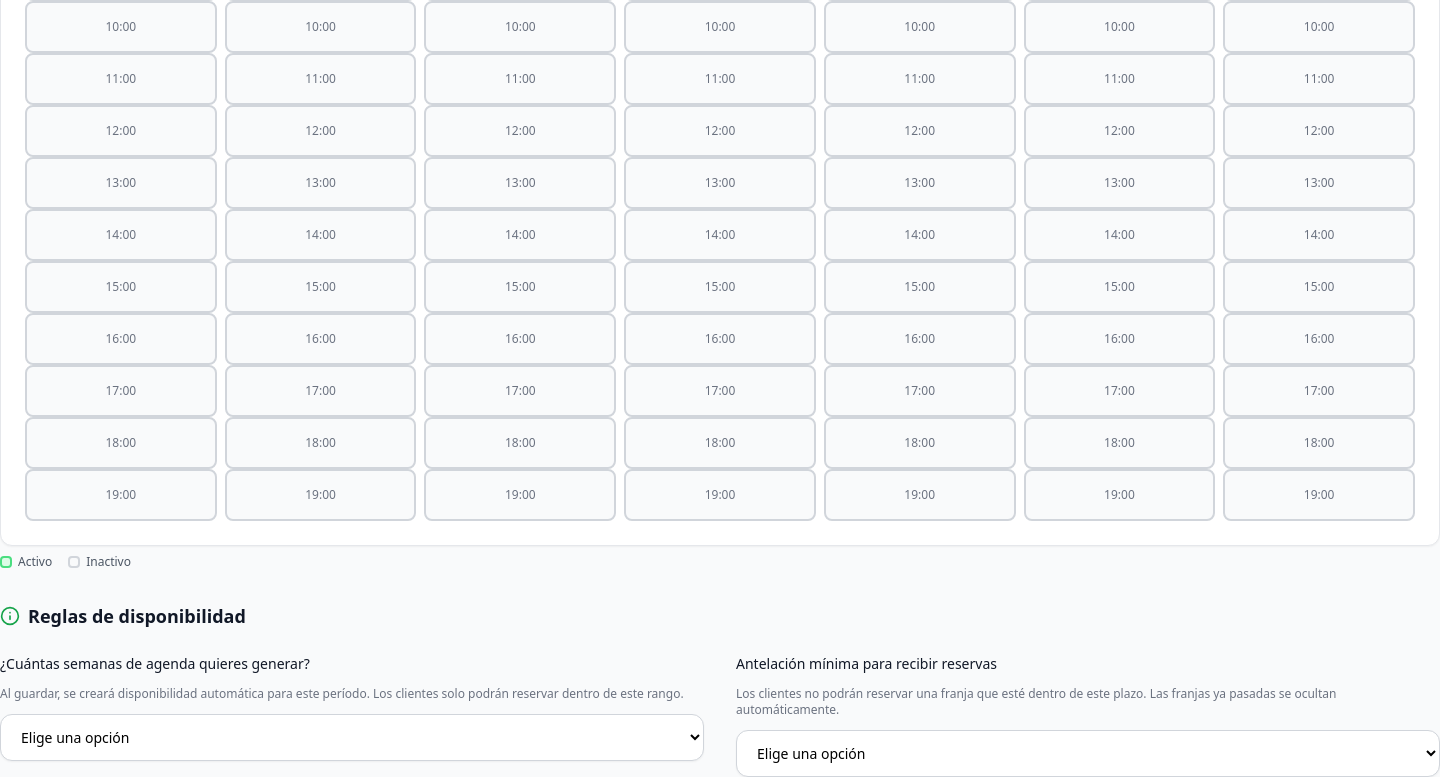
Scenario: RecurringScheduleManager — sin valores preconfigurados › con las reglas elegidas, guardar abre la confirmación y guarda lo ELEGIDO, no un valor por defecto
(page scrolled)
Select "3 meses" in the 1st dropdown at x=352, y=738, box [0,714,704,761]
(page scrolled)
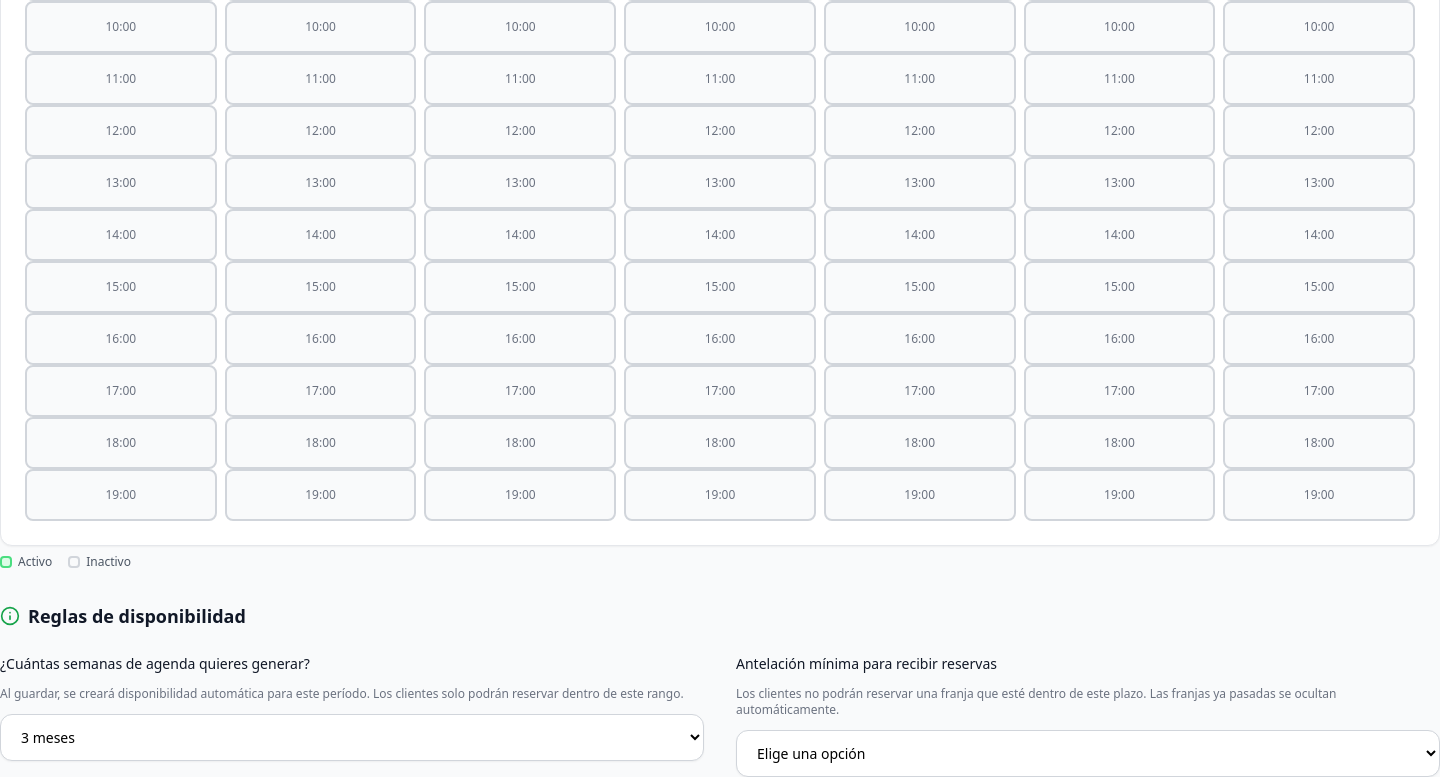
Select "48 horas antes" in the dropdown below "Antelación mínima para recibir reservas" at x=1088, y=754, box [736,730,1439,776]
(page scrolled)
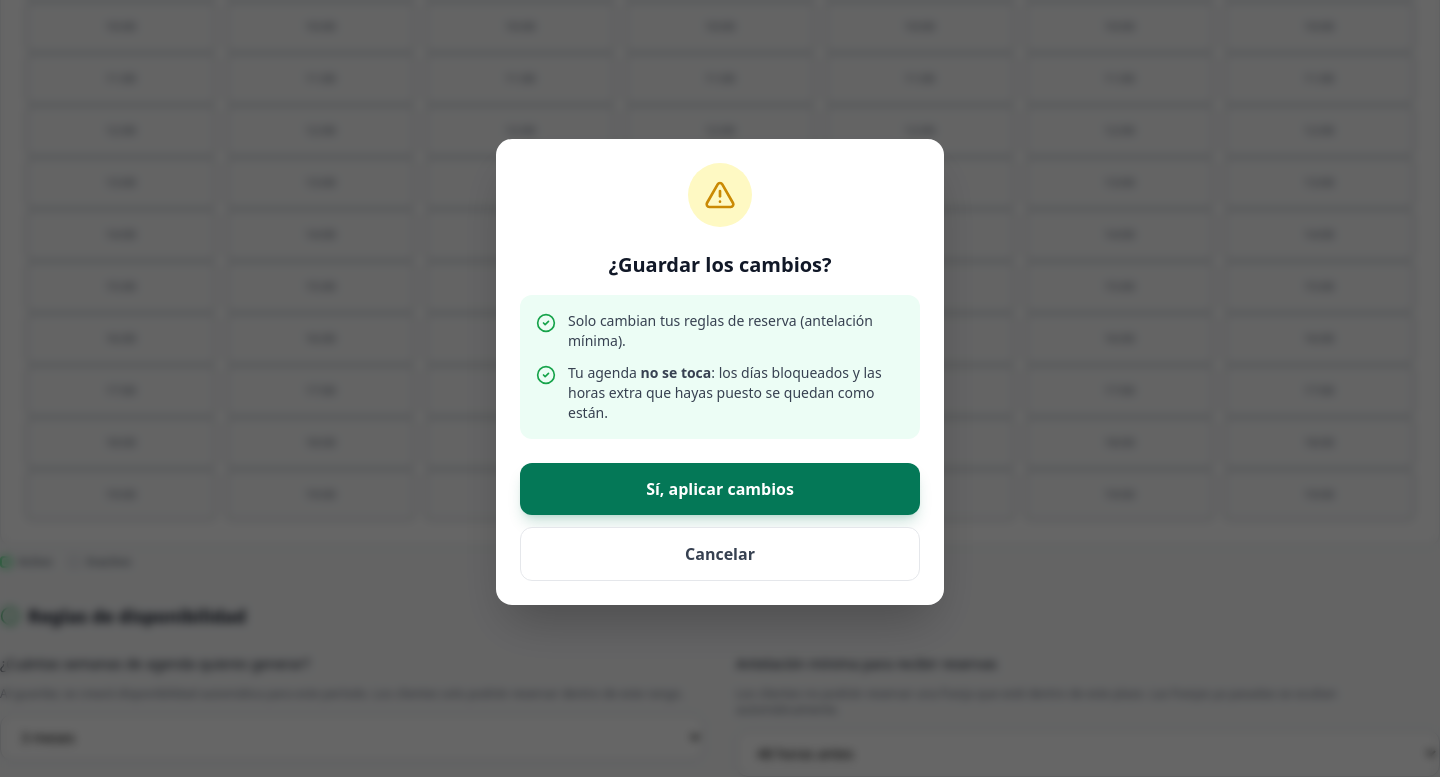
Result: the heading "¿Confirmar nuevo horario fijo?" is shown at [608,251,832,279]
